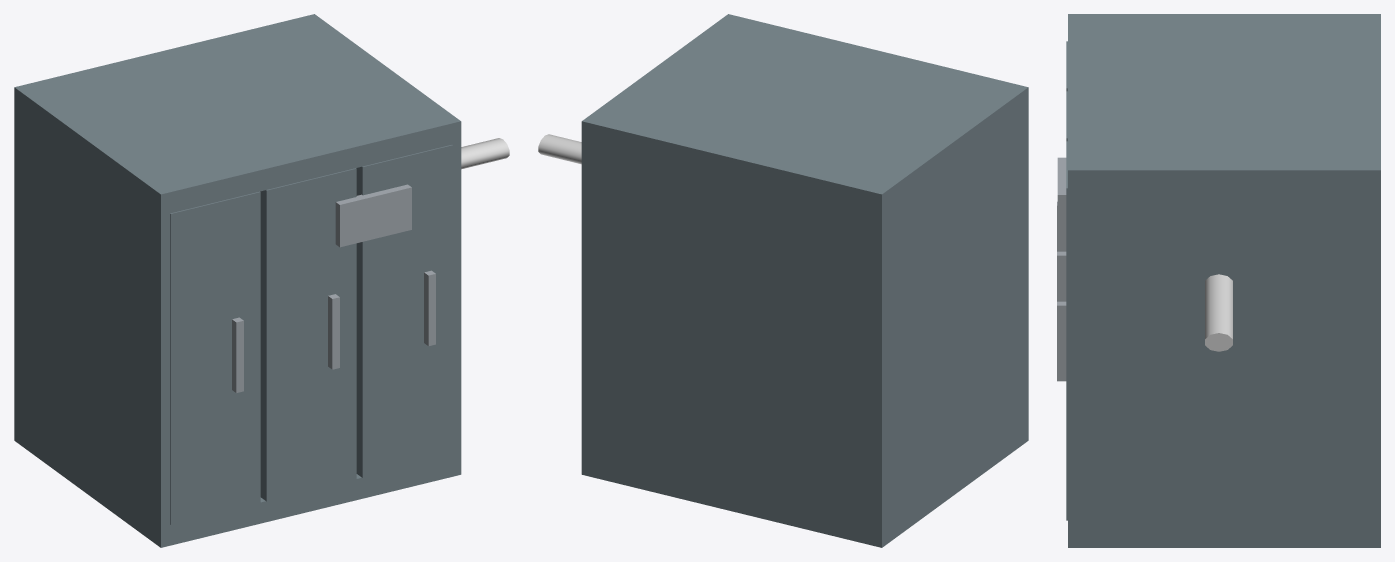
3 renders of one model, left to right at view 1: azimuth 30°, elevation 25°; view 2: azimuth 150°, elevation 25°; view 3: azimuth 270°, elevation 25°, orthographic. The views are drawn at different scales.
Visible parts, largest first — view 1: g0.011, g0.003, g0.002, g0, g0.007, g0.004, g0.009, g0.006, g0.010, cable_2, g0.005, g0.001 (+1 smaller); view 2: g0.006, g0.011, g0.003, g0.009, g0.004, cable_2; view 3: g0.009, g0.003, g0.006, g0.004, g0.011, cable_2, g0.010, g0.008, g0.007, g0.005.
Part boxes in pixels (box(x1,y1,x2,y2)): g0.011: box(14, 83, 178, 545); g0.003: box(14, 18, 458, 215); g0.002: box(260, 168, 356, 501); g0: box(170, 191, 260, 524); g0.007: box(356, 145, 452, 477); g0.004: box(14, 420, 461, 547); g0.009: box(297, 14, 461, 478); g0.006: box(14, 18, 304, 444); g0.010: box(335, 184, 411, 247); cable_2: box(461, 138, 509, 169); g0.005: box(328, 294, 339, 369); g0.001: box(232, 317, 243, 392); g0.006: box(581, 119, 890, 547); g0.011: box(864, 83, 1028, 547); g0.003: box(581, 18, 1028, 208); g0.009: box(581, 14, 745, 478); g0.004: box(581, 419, 1028, 547); cable_2: box(538, 134, 581, 164); g0.009: box(1068, 161, 1380, 547); g0.003: box(1068, 23, 1380, 192); g0.006: box(1362, 23, 1380, 547); g0.004: box(1068, 525, 1380, 540); g0.011: box(1068, 14, 1380, 23); cable_2: box(1205, 274, 1232, 351); g0.010: box(1057, 157, 1066, 240); g0.008: box(1057, 301, 1066, 381); g0.007: box(1066, 141, 1067, 520); g0.005: box(1057, 251, 1066, 301).
Bounding box in the file's own units: 1.32 × 1.08 × 0.84.
